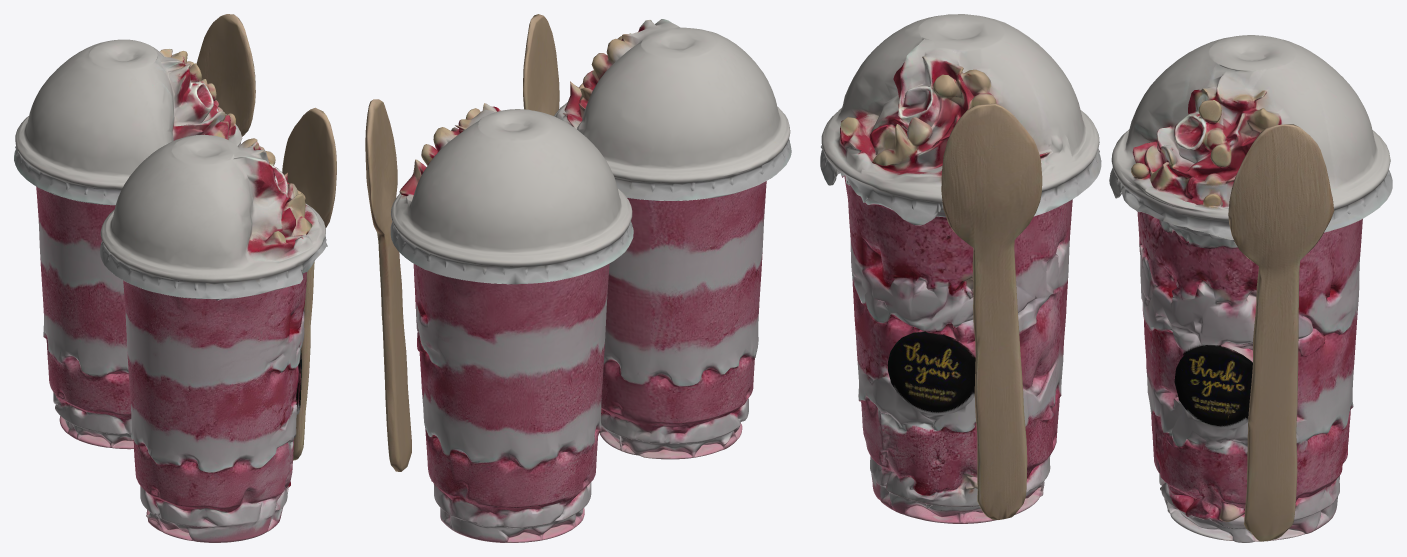
The model's file is realistic-layered-dessert-cup.glb.
The picture shows the model from 3 angles, left to right: view 1: azimuth 30°, elevation 25°; view 2: azimuth 150°, elevation 25°; view 3: azimuth 270°, elevation 25°; orthographic projection. The views are drawn at different scales.
Parts seen in each view (by area): view 1: tripo_node_f1e57c66-4f80-4871-a9a0-5796370565f0; view 2: tripo_node_f1e57c66-4f80-4871-a9a0-5796370565f0; view 3: tripo_node_f1e57c66-4f80-4871-a9a0-5796370565f0.
Part boxes in pixels (x1=…): tripo_node_f1e57c66-4f80-4871-a9a0-5796370565f0: x1=14, y1=14, x2=336, y2=542; tripo_node_f1e57c66-4f80-4871-a9a0-5796370565f0: x1=365, y1=14, x2=791, y2=542; tripo_node_f1e57c66-4f80-4871-a9a0-5796370565f0: x1=820, y1=14, x2=1392, y2=542.
Bounding box in the file's own units: 0.346 × 0.4812 × 0.5483.
1 material, 1 textured.
